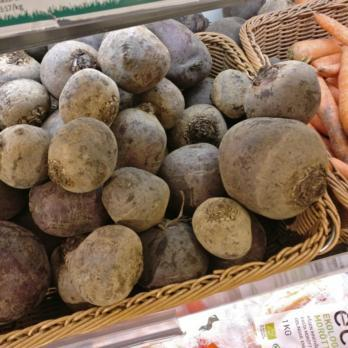beetroot: (0, 50, 133, 307), (135, 22, 256, 268), (222, 58, 324, 221)
